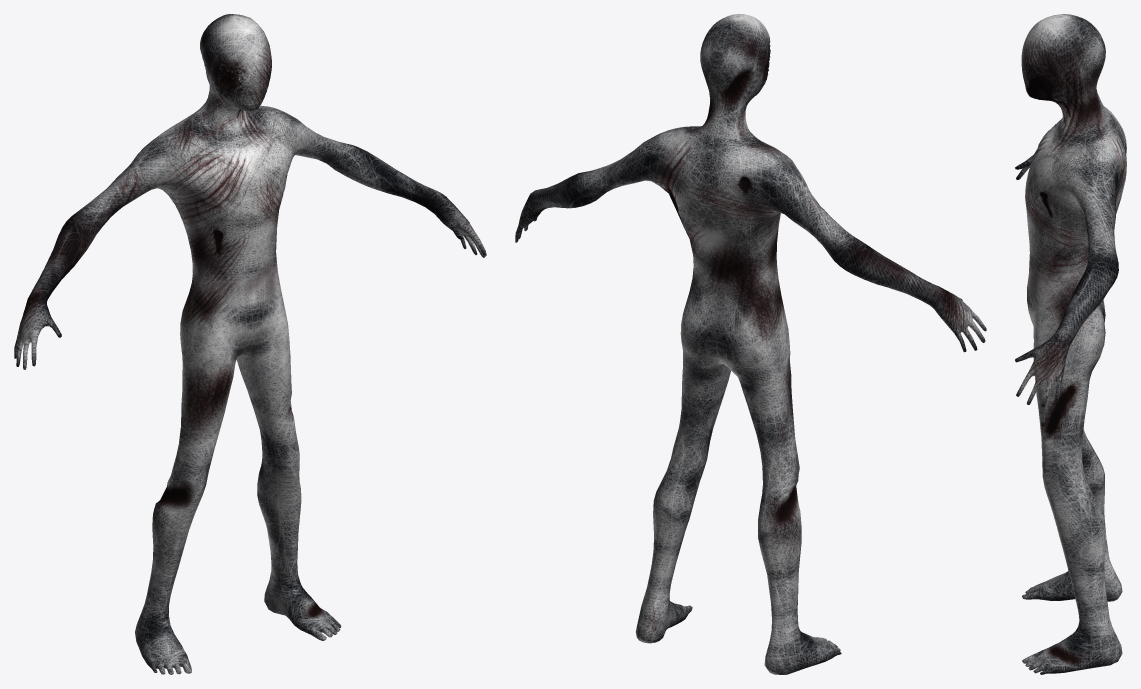
3 views of the same model, side by side, from view 1: azimuth 30°, elevation 25°; view 2: azimuth 150°, elevation 25°; view 3: azimuth 270°, elevation 25° (orthographic).
Visible parts, largest first — view 1: Nickz_humanMaleAverage; view 2: Nickz_humanMaleAverage; view 3: Nickz_humanMaleAverage.
Boxes of the visible parts, <box> form: Nickz_humanMaleAverage: <box>14,14,486,674</box>; Nickz_humanMaleAverage: <box>515,14,986,674</box>; Nickz_humanMaleAverage: <box>1015,14,1126,674</box>.
Bounding box in the file's own units: 1.38 × 1.79 × 0.2956.
1 material, 1 textured.
